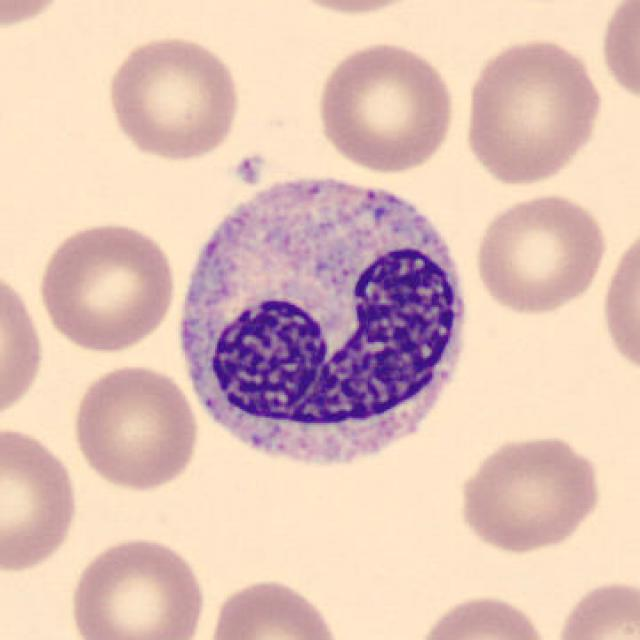Neutrophil: (162, 155, 485, 490)
RBC: (459, 34, 606, 188), (313, 37, 459, 176), (34, 217, 180, 354), (454, 430, 604, 556), (102, 32, 244, 164), (68, 359, 202, 494), (469, 189, 610, 317), (64, 532, 210, 640), (0, 421, 82, 575), (203, 575, 345, 640), (0, 263, 48, 430), (410, 590, 554, 640), (597, 219, 640, 384), (551, 575, 638, 640), (595, 0, 640, 111), (274, 0, 434, 18), (0, 0, 74, 33)
